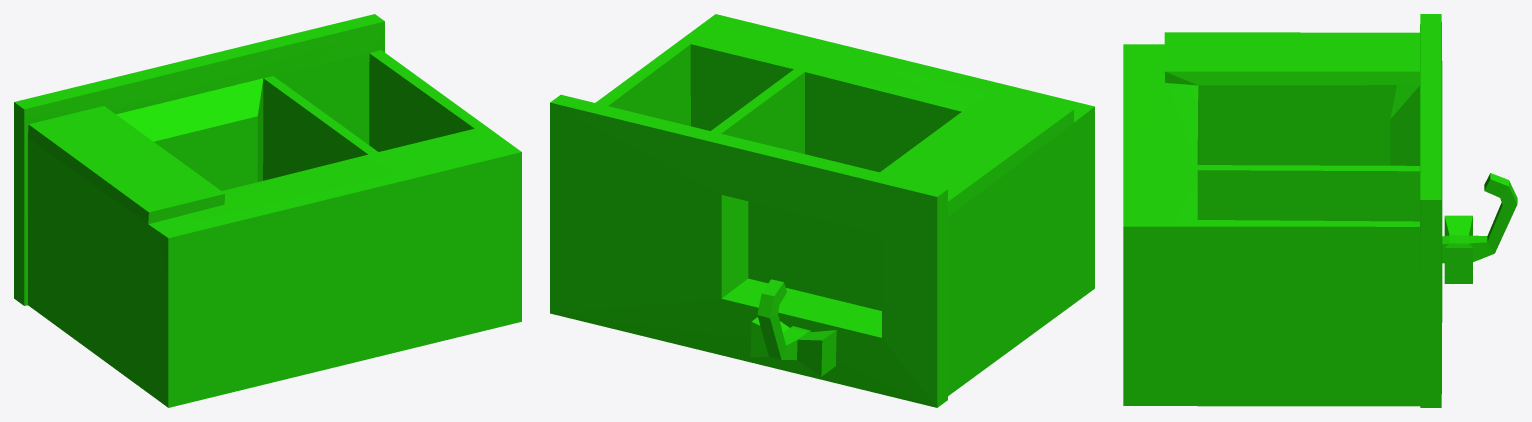
The model's file is SM_Shelf_03_Collider.fbx.
3 renders of one model, left to right at view 1: azimuth 30°, elevation 25°; view 2: azimuth 150°, elevation 25°; view 3: azimuth 270°, elevation 25°, orthographic. The views are drawn at different scales.
Parts seen in each view (by area): view 1: SM_Shelf_03_Collider; view 2: SM_Shelf_03_Collider; view 3: SM_Shelf_03_Collider.
Boxes of the visible parts, x1,y1,x2,y2 form: SM_Shelf_03_Collider: (14,14,521,407); SM_Shelf_03_Collider: (550,14,1094,407); SM_Shelf_03_Collider: (1123,14,1517,407).
Size of the model in its own units: 145 by 75.58 by 130.
